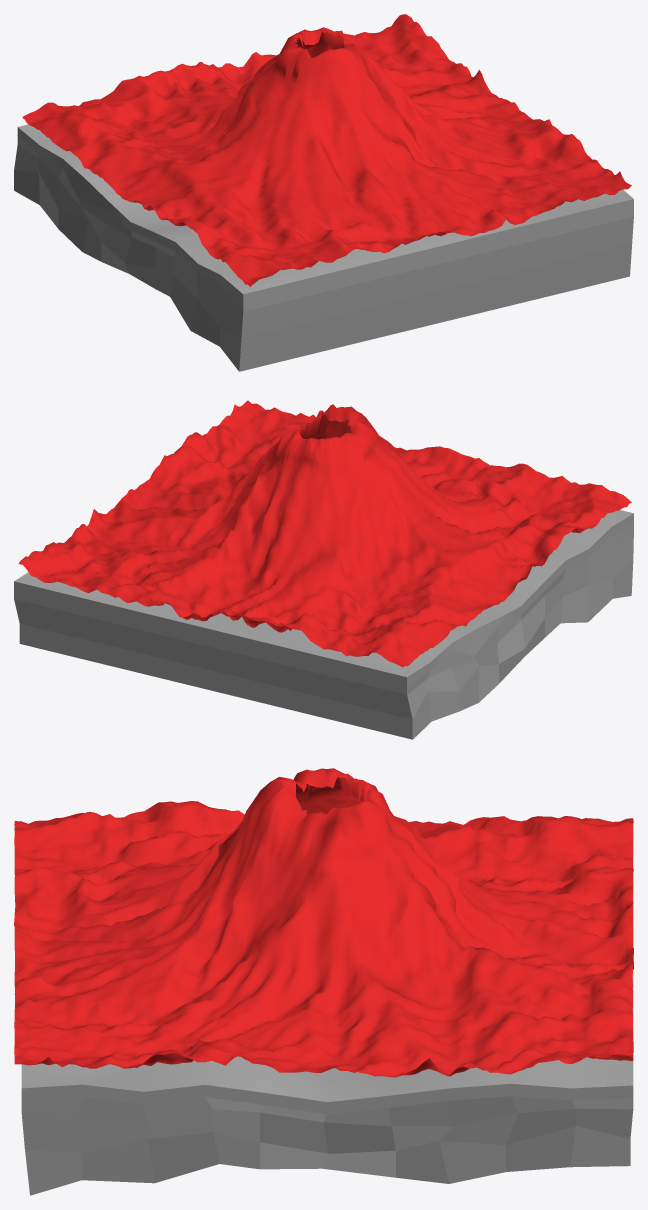
The model's file is VolTest1.fbx.
3 renders of one model, top to bottom at view 1: azimuth 30°, elevation 25°; view 2: azimuth 150°, elevation 25°; view 3: azimuth 270°, elevation 25°, orthographic. The views are drawn at different scales.
Visible parts, largest first — view 1: VOLCANO, pCube1; view 2: VOLCANO, pCube1; view 3: VOLCANO, pCube1.
Part boxes in pixels (x1,y1,x2,y2): VOLCANO: [22, 14, 631, 286]; pCube1: [14, 124, 633, 371]; VOLCANO: [18, 400, 631, 667]; pCube1: [14, 510, 633, 739]; VOLCANO: [14, 768, 633, 1077]; pCube1: [21, 856, 633, 1195].
Size of the model in its own units: 458 by 231 by 456.
